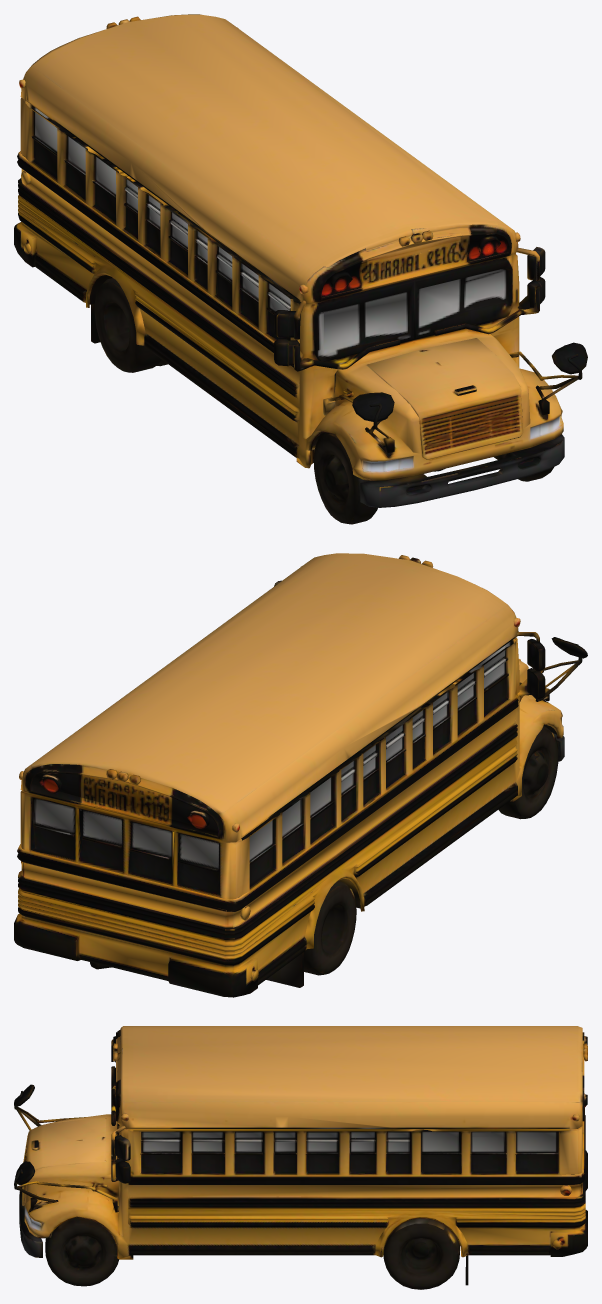
The model's file is Vehicles__a_school_bus_edfa6ba9_v1.cluster.glb.
The picture shows the model from 3 angles, top to bottom: view 1: azimuth 30°, elevation 25°; view 2: azimuth 150°, elevation 25°; view 3: azimuth 270°, elevation 25°; orthographic projection. The views are drawn at different scales.
Visible parts, largest first — view 1: material; view 2: material; view 3: material.
Boxes of the visible parts, box(x1,y1,x2,y2) form: material: box(14, 14, 587, 524); material: box(14, 553, 587, 997); material: box(14, 1026, 587, 1289).
Size of the model in its own units: 0.8261 by 0.7362 by 1.9.
Materials: 1 (1 with a texture image).
